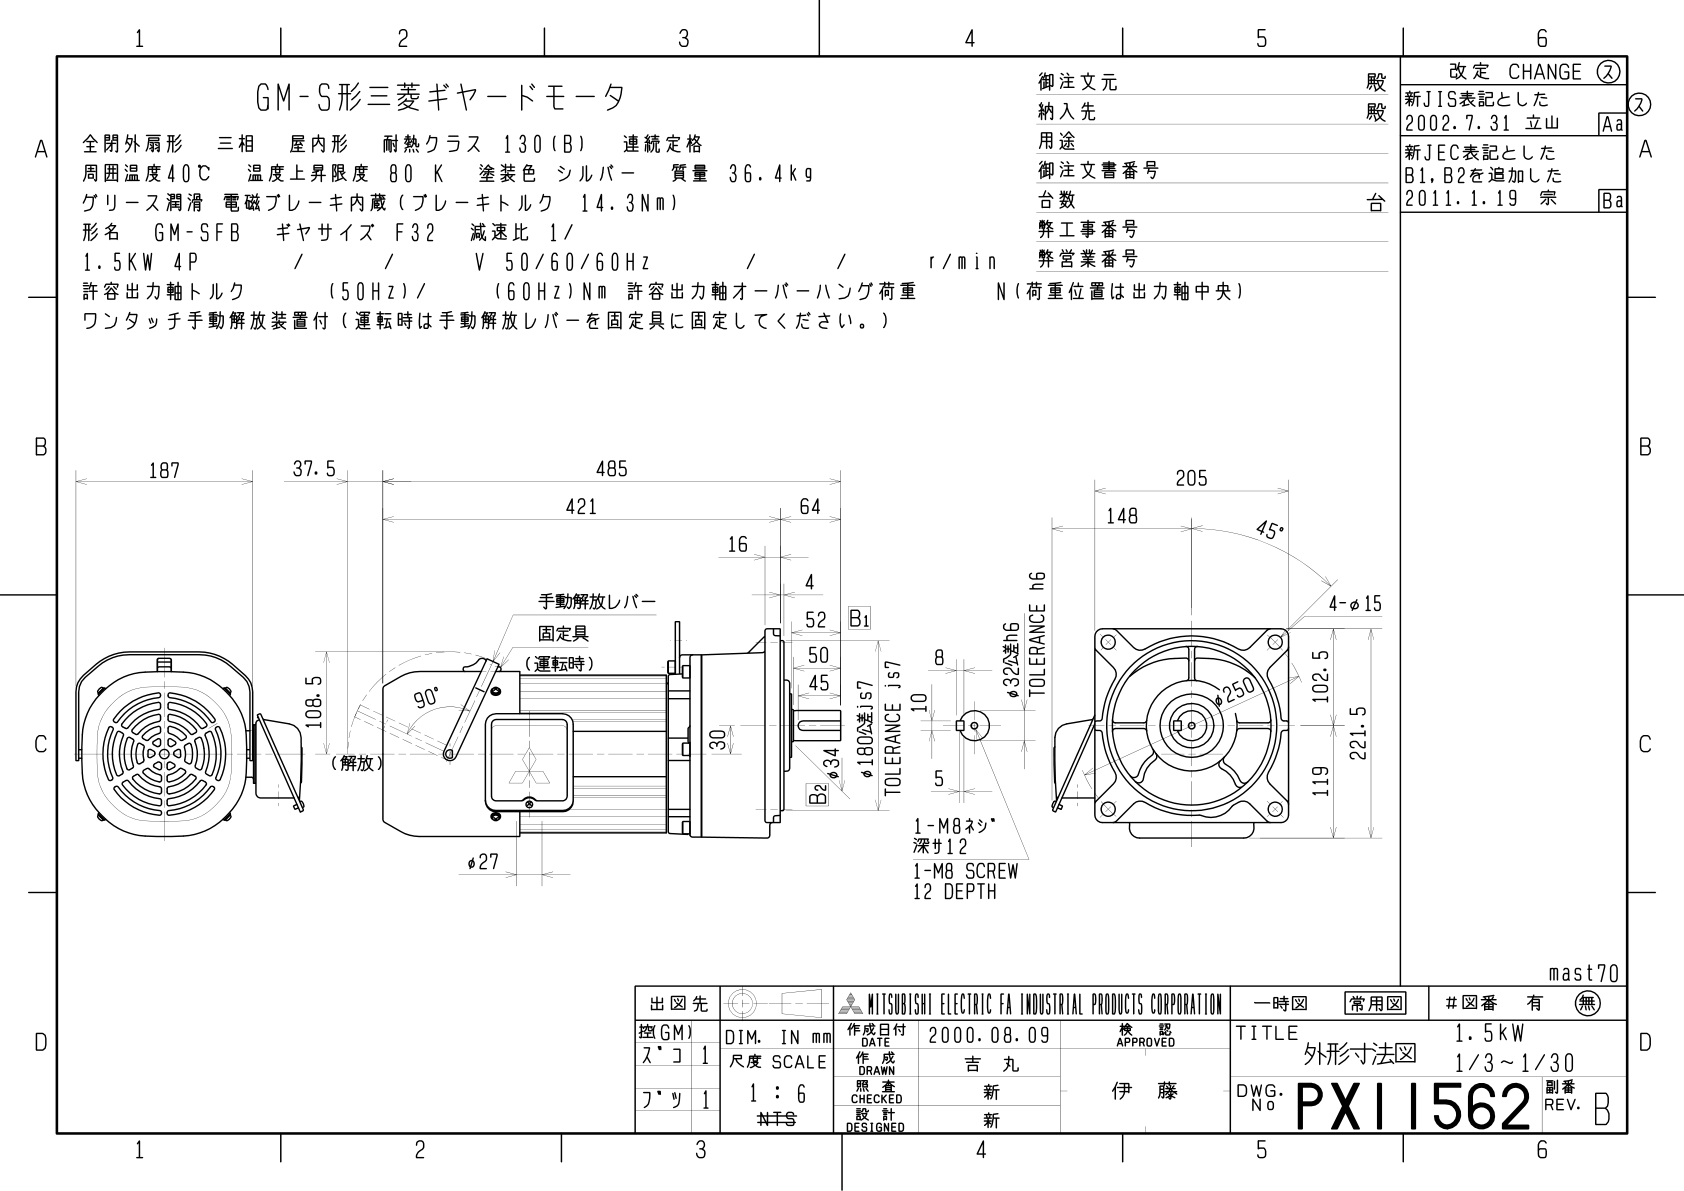GM_S_手動ブレーキ＿三相_フランジ: (63, 437, 1395, 931)
